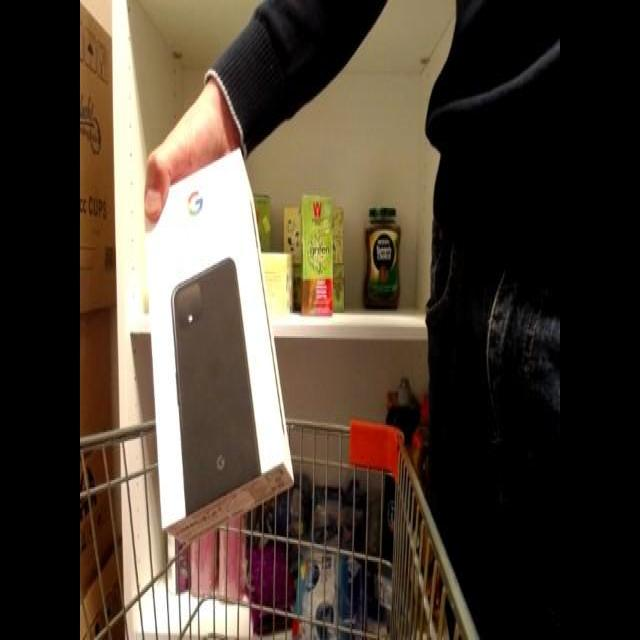Pixel 4: (142, 130, 296, 548)
